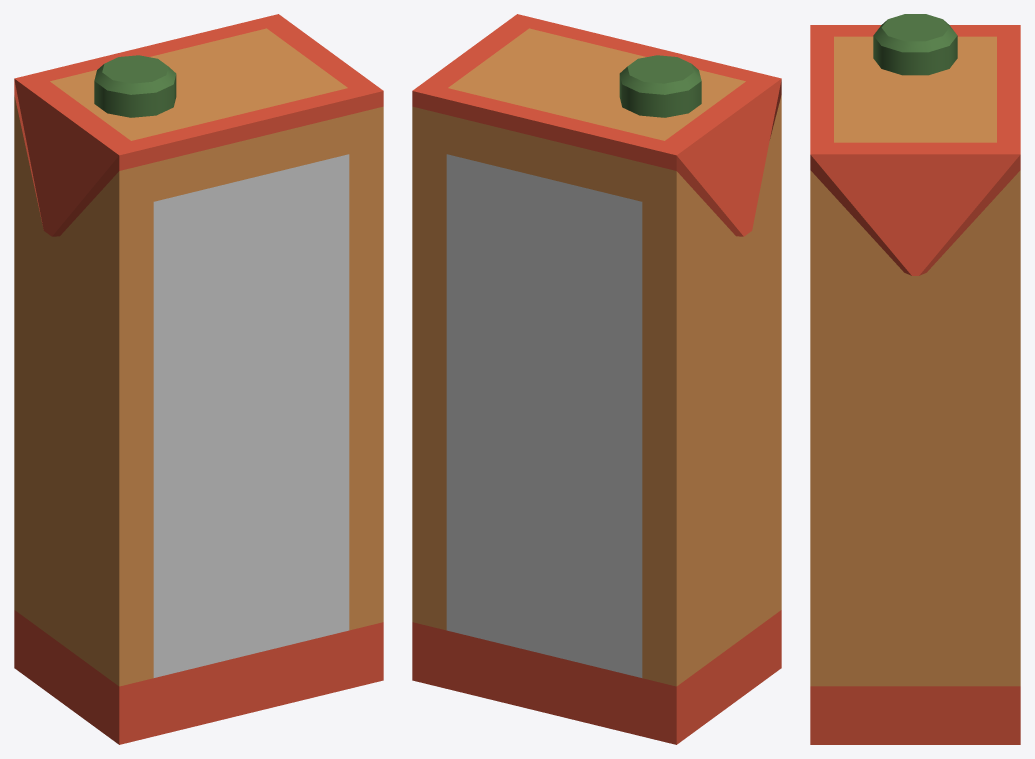
File: FruitJuice_02.fbx
3 renders of one model, left to right at view 1: azimuth 30°, elevation 25°; view 2: azimuth 150°, elevation 25°; view 3: azimuth 270°, elevation 25°, orthographic.
Parts seen in each view (by area): view 1: FruitJuice_02; view 2: FruitJuice_02; view 3: FruitJuice_02.
Part boxes in pixels (left/top/right/bottom): FruitJuice_02: left=14, top=14, right=383, bottom=744; FruitJuice_02: left=412, top=14, right=781, bottom=744; FruitJuice_02: left=810, top=14, right=1020, bottom=744.
Bounding box in the file's own units: 0.1449 × 0.2843 × 0.0873.
